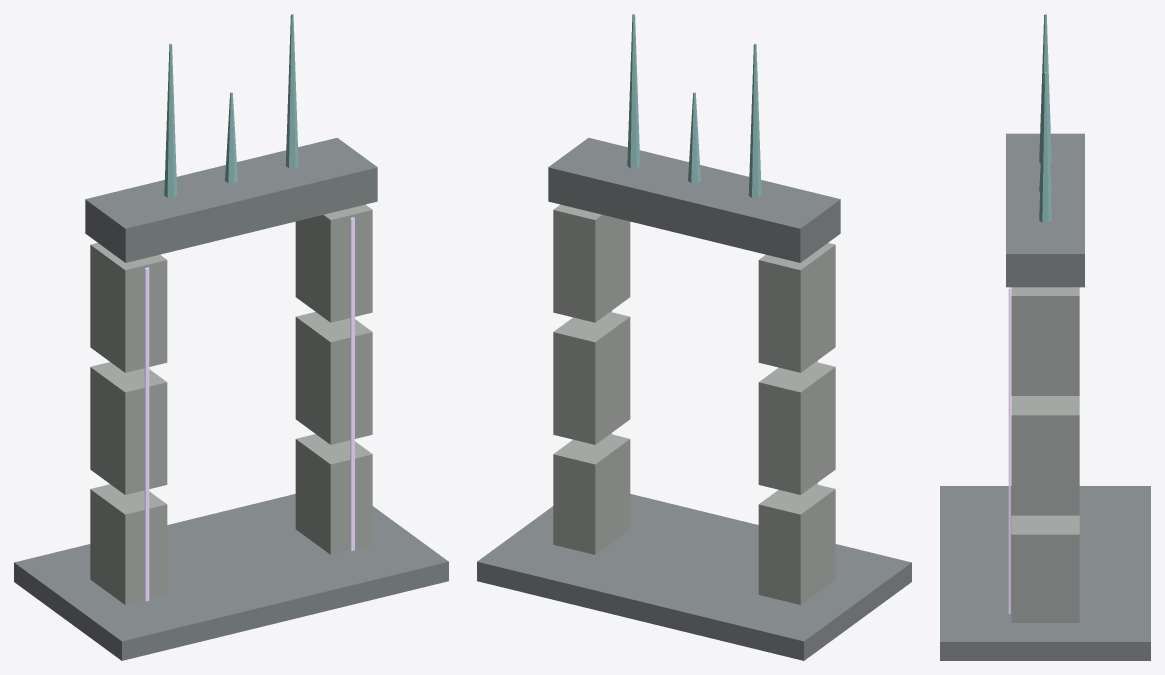
Rendered from SM_ENV_Building_20_OriginGate.glb.
3 renders of one model, left to right at view 1: azimuth 30°, elevation 25°; view 2: azimuth 150°, elevation 25°; view 3: azimuth 270°, elevation 25°, orthographic. The views are drawn at different scales.
Parts seen in each view (by area): view 1: SM_ENV_Building_20_OriginGate; view 2: SM_ENV_Building_20_OriginGate; view 3: SM_ENV_Building_20_OriginGate.
Part boxes in pixels (x1,y1,x2,y2): SM_ENV_Building_20_OriginGate: (14, 14, 448, 660); SM_ENV_Building_20_OriginGate: (477, 14, 911, 660); SM_ENV_Building_20_OriginGate: (940, 14, 1150, 660).
Size of the model in its own units: 7 by 11.3 by 4.
